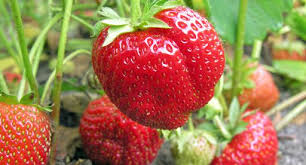strawberry: (93, 7, 228, 133), (79, 92, 165, 165), (211, 105, 277, 165), (1, 96, 52, 165)
